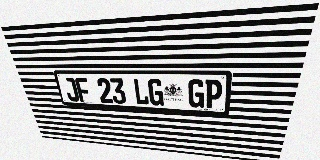2: (96, 78, 113, 103)
3: (109, 78, 126, 104)
F: (74, 78, 92, 102)
G: (188, 79, 205, 108), (148, 79, 164, 106)
J: (62, 77, 80, 102)
L: (133, 78, 149, 105)
P: (204, 79, 223, 109)
